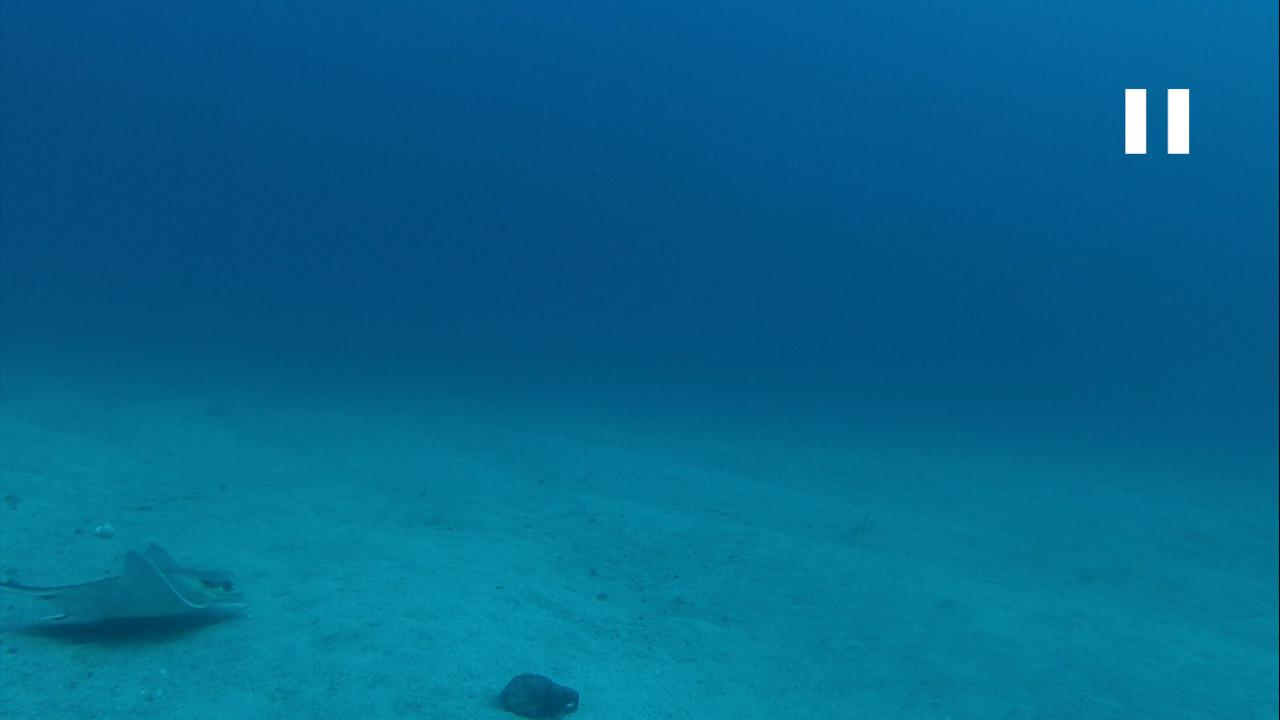myliobatis: (1, 534, 255, 628)
